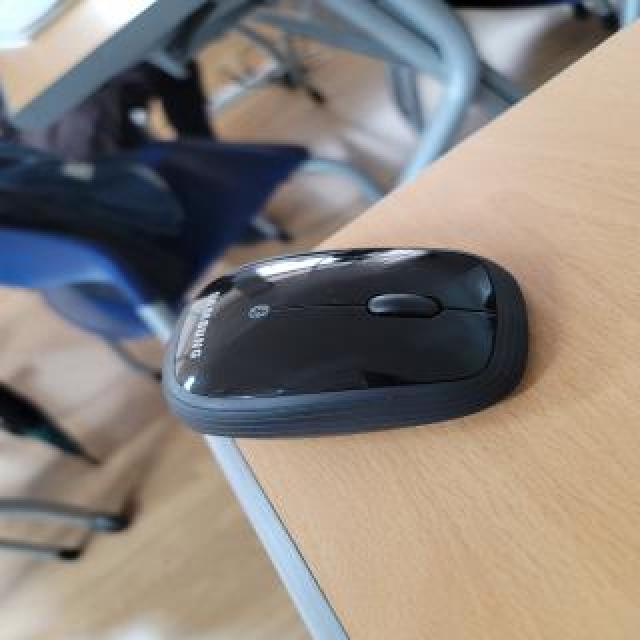mouse: (144, 230, 540, 445)
